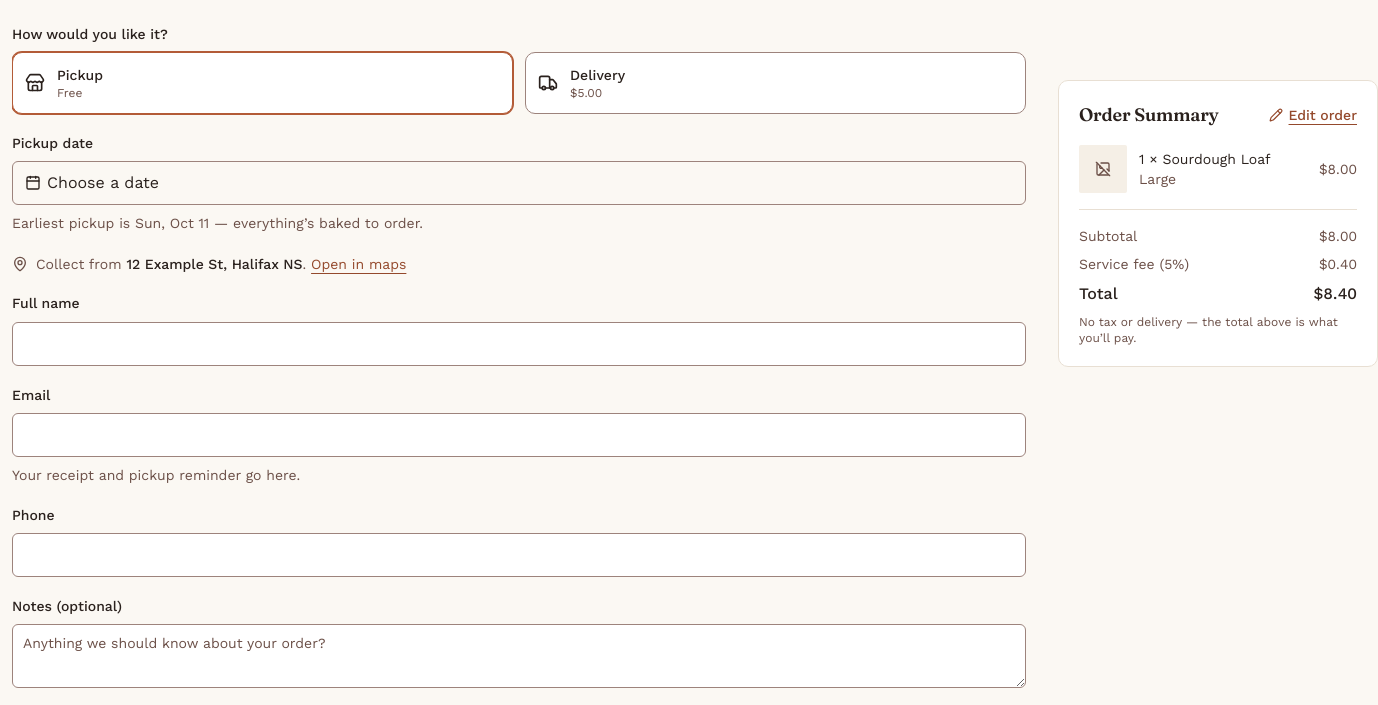
CheckoutForm delivery option › adds the fee and asks for an address once delivery is chosen
Click the radio button labelled "Delivery $5.00": (598,75) [525,52,1026,114]
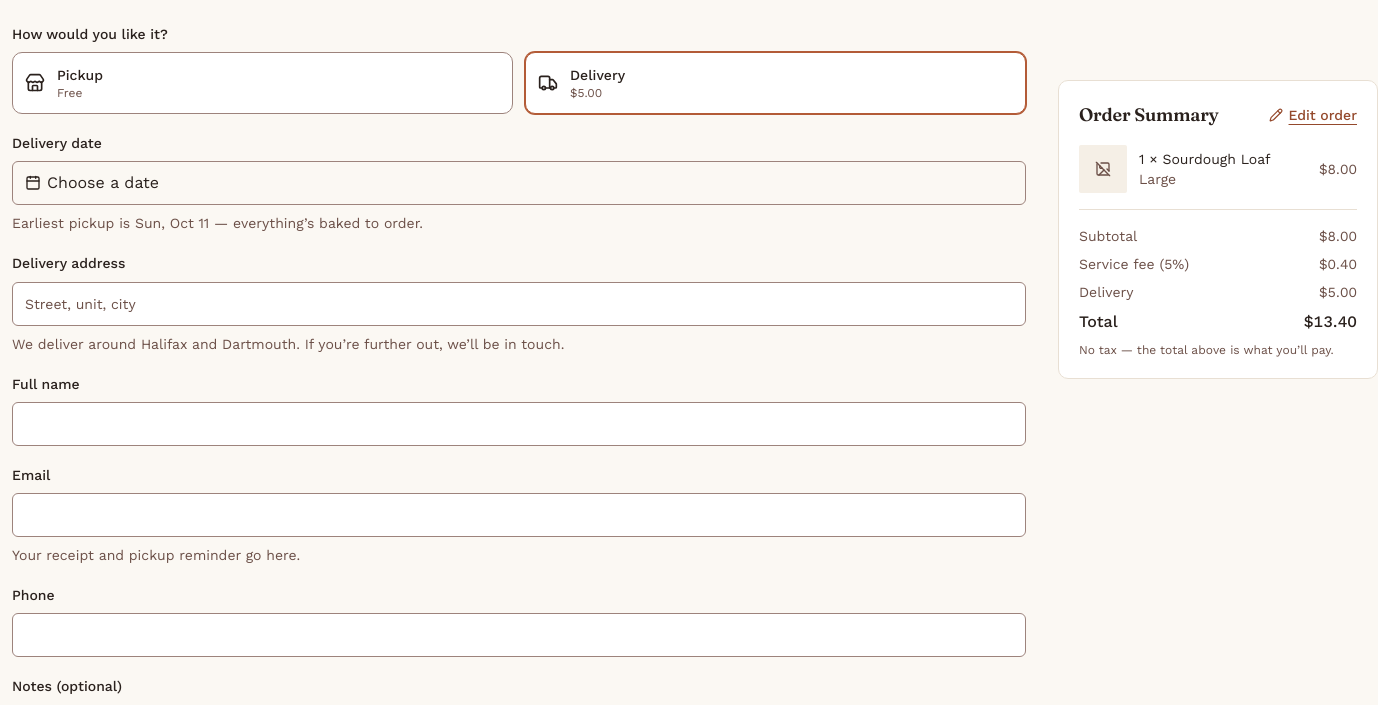
Expected: the field labelled "Delivery address" is shown, [12,282,1026,326]
Expected: the text "Collect from" is gone
